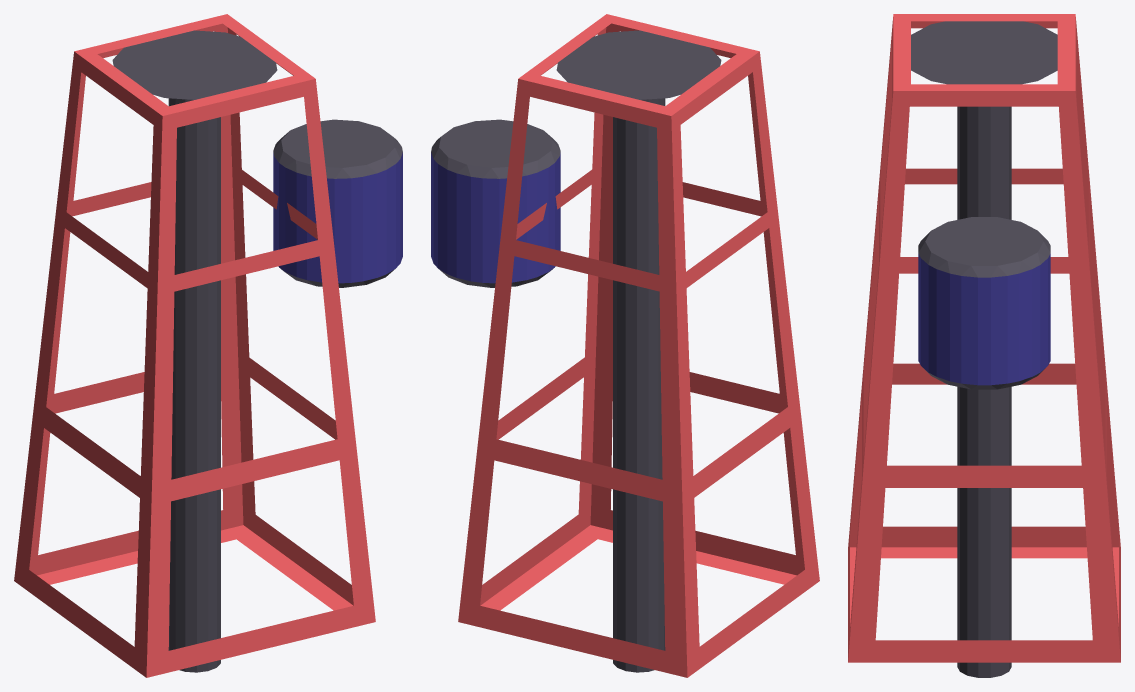
The model's file is water_rig.glb.
3 renders of one model, left to right at view 1: azimuth 30°, elevation 25°; view 2: azimuth 150°, elevation 25°; view 3: azimuth 270°, elevation 25°, orthographic. The views are drawn at different scales.
Visible parts, largest first — view 1: Cube.003, Cylinder.002, Cylinder.003; view 2: Cube.003, Cylinder.002, Cylinder.003; view 3: Cube.003, Cylinder.002, Cylinder.003.
Boxes of the visible parts, x1,y1,x2,y2 form: Cube.003: (14, 14, 375, 677); Cylinder.002: (112, 30, 277, 672); Cylinder.003: (273, 119, 402, 287); Cube.003: (458, 14, 819, 677); Cylinder.002: (556, 30, 721, 672); Cylinder.003: (431, 119, 560, 287); Cube.003: (848, 14, 1120, 662); Cylinder.002: (911, 21, 1057, 677); Cylinder.003: (918, 217, 1050, 389).
Bounding box in the file's own units: 2.74 × 4.97 × 2.
